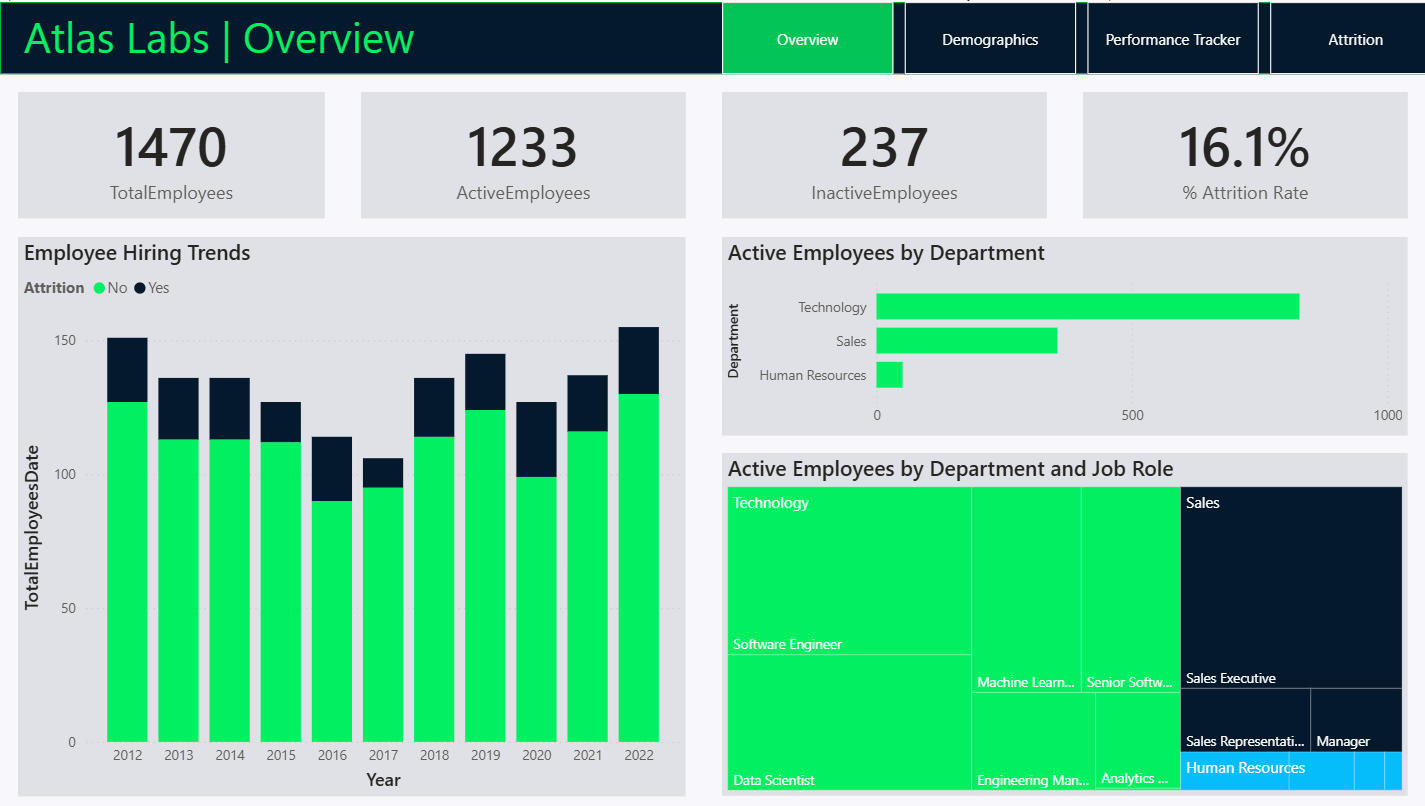

The page's visual inventory and layout, read from the dashboard file:
{"tool":"powerbi","page":{"name":"Overview","canvas":[1280,720],"ordinal":0},"visuals":[{"type":"card","fields":{"Values":["_Measures.TotalEmployees"]},"box":[16,80,272,112],"z":0},{"type":"card","fields":{"Values":["_Measures.ActiveEmployees"]},"box":[320,80,288,112],"z":1000},{"type":"card","fields":{"Values":["_Measures.InactiveEmployees"]},"box":[640,80,288,112],"z":2000},{"type":"card","fields":{"Values":["_Measures.% Attrition Rate"]},"box":[960,80,288,112],"z":3000},{"type":"columnChart","title":"Employee Hiring Trends","fields":{"Category":["DimDate.Date.Variation.Date Hierarchy.Year","DimDate.Date.Variation.Date Hierarchy.Quarter","DimDate.Date.Variation.Date Hierarchy.Month","DimDate.Date.Variation.Date Hierarchy.Day"],"Y":["_Measures.TotalEmployeesDate"],"Series":["DimEmployee.Attrition"]},"box":[16,208,592,496],"z":4000},{"type":"clusteredBarChart","title":"Active Employees by Department","fields":{"Category":["DimEmployee.Department"],"Y":["_Measures.ActiveEmployees"]},"box":[640,208,608,176],"z":5000},{"type":"treemap","title":"Active Employees by Department and Job Role","fields":{"Values":["_Measures.ActiveEmployees"],"Group":["DimEmployee.Department"],"Details":["DimEmployee.JobRole"]},"box":[640,400,608,304],"z":6000},{"type":"shape","box":[0,0,1280,64],"z":7000},{"type":"textbox","box":[16,0,448,64],"z":8000},{"type":"pageNavigator","box":[640,0,640,64],"z":9000}]}

Visuals, with their boxes in screenshot pixels (x1, y1, x2, y2), scaled from the page's 1280x720 canvas onto the 1425x806 screenshot:
card - _Measures.TotalEmployees: x1=18, y1=90, x2=321, y2=215
card - _Measures.ActiveEmployees: x1=356, y1=90, x2=677, y2=215
card - _Measures.InactiveEmployees: x1=712, y1=90, x2=1033, y2=215
card - _Measures.% Attrition Rate: x1=1069, y1=90, x2=1389, y2=215
"Employee Hiring Trends" columnChart: x1=18, y1=233, x2=677, y2=788
"Active Employees by Department" clusteredBarChart: x1=712, y1=233, x2=1389, y2=430
"Active Employees by Department and Job Role" treemap: x1=712, y1=448, x2=1389, y2=788
shape: x1=0, y1=0, x2=1424, y2=72
textbox: x1=18, y1=0, x2=517, y2=72
pageNavigator: x1=712, y1=0, x2=1424, y2=72
